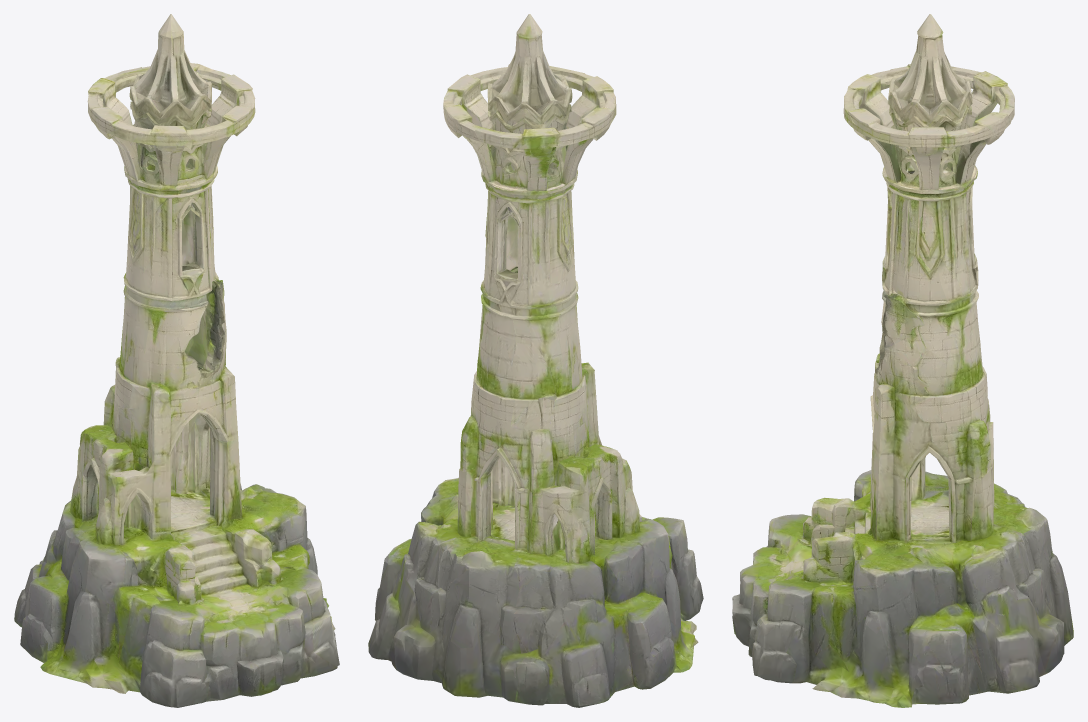
Rendered from tower.glb.
The picture shows the model from 3 angles, left to right: view 1: azimuth 30°, elevation 25°; view 2: azimuth 150°, elevation 25°; view 3: azimuth 270°, elevation 25°; orthographic projection. The views are drawn at different scales.
Visible parts, largest first — view 1: Mesh_0; view 2: Mesh_0; view 3: Mesh_0.
Part boxes in pixels (x1,y1,x2,y2): Mesh_0: [14, 14, 339, 707]; Mesh_0: [368, 14, 703, 707]; Mesh_0: [732, 14, 1073, 707].
Size of the model in its own units: 0.9208 by 1.9 by 0.943.
1 material, 1 textured.
